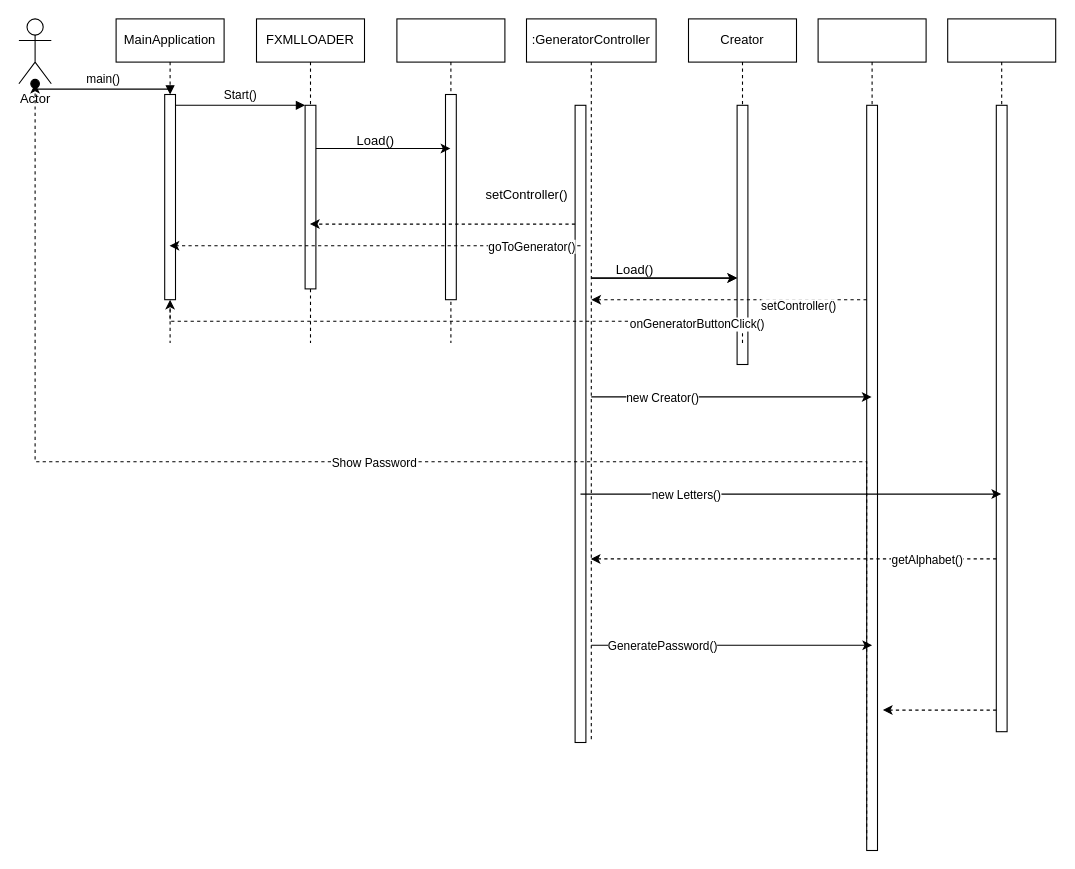
This 1075x869 diagram has some shape labels left out. Each missing label, with the box of its shape:
HomeController: (396, 18, 505, 343)
Letters: (947, 18, 1056, 732)
Password: (817, 18, 926, 850)
